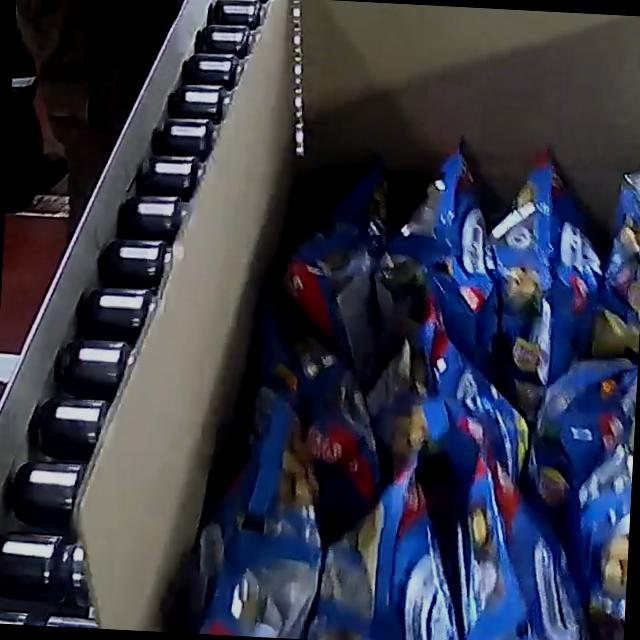paprika: (179, 91, 640, 640)
